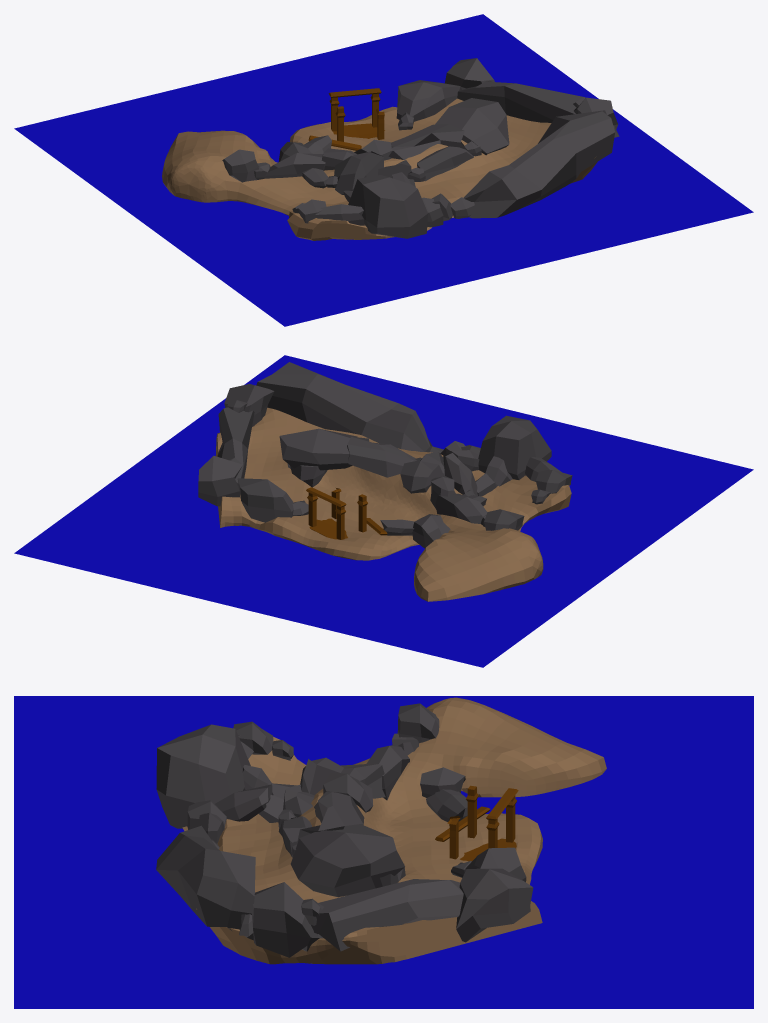
Rendered from adacimbenim2.glb.
3 renders of one model, top to bottom at view 1: azimuth 30°, elevation 25°; view 2: azimuth 150°, elevation 25°; view 3: azimuth 270°, elevation 25°, orthographic. The views are drawn at different scales.
Visible parts, largest first — view 1: adacimbenim; view 2: adacimbenim; view 3: adacimbenim.
Part boxes in pixels (box(x1,y1,x2,y2)): adacimbenim: box(14, 14, 753, 326); adacimbenim: box(14, 355, 753, 667); adacimbenim: box(14, 696, 753, 1008).
Size of the model in its own units: 29.38 by 5.37 by 29.38.
